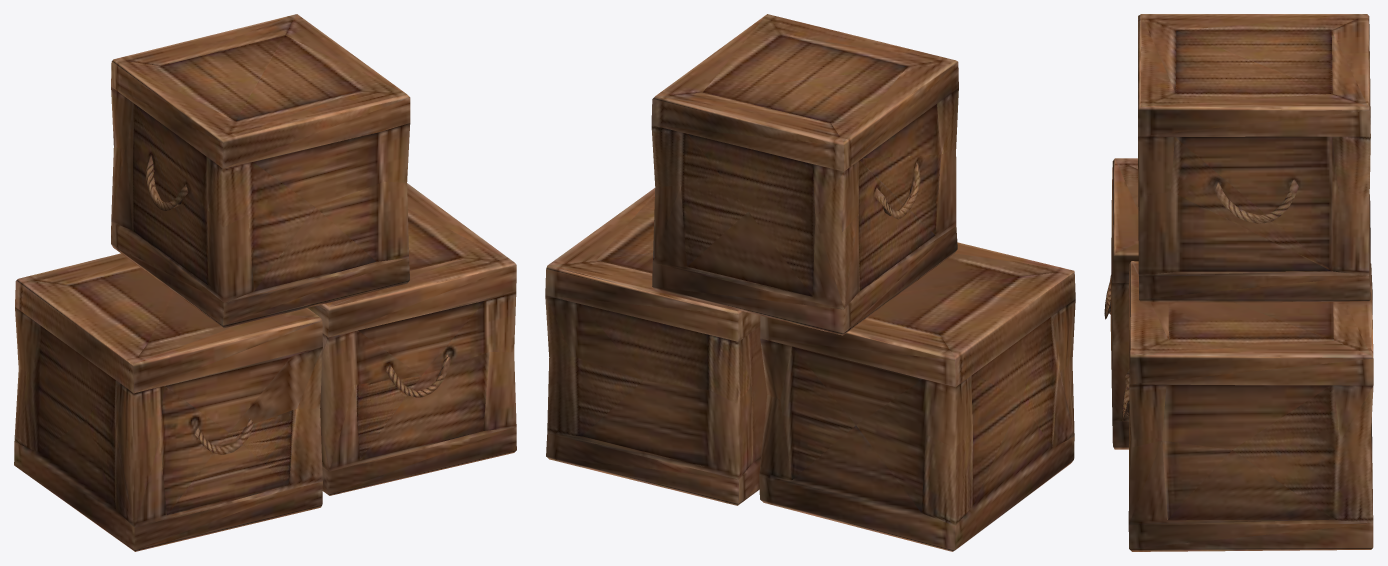
Rendered from crates.glb.
3 views of the same model, side by side, from view 1: azimuth 30°, elevation 25°; view 2: azimuth 150°, elevation 25°; view 3: azimuth 270°, elevation 25° (orthographic). The views are drawn at different scales.
Bounding box in the file's own units: 0.9541 × 0.8828 × 0.5469.
1 material, 1 textured.
